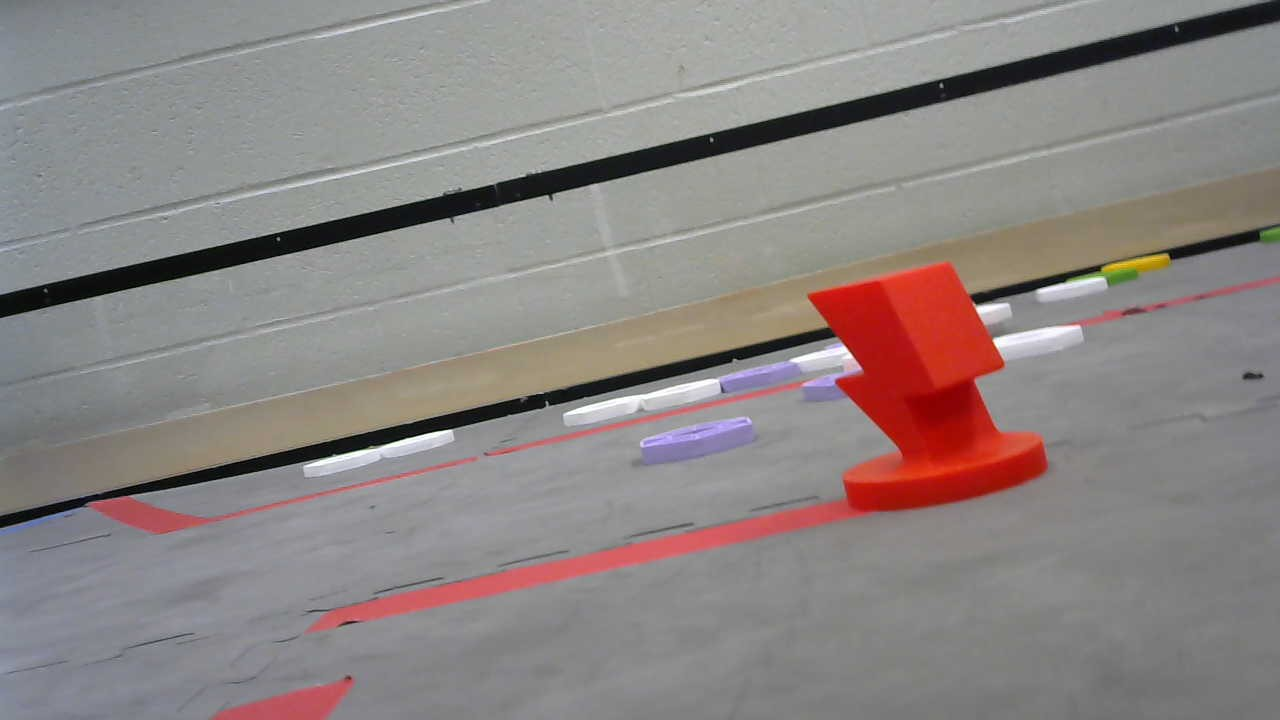redobject: (801, 259, 1050, 513)
